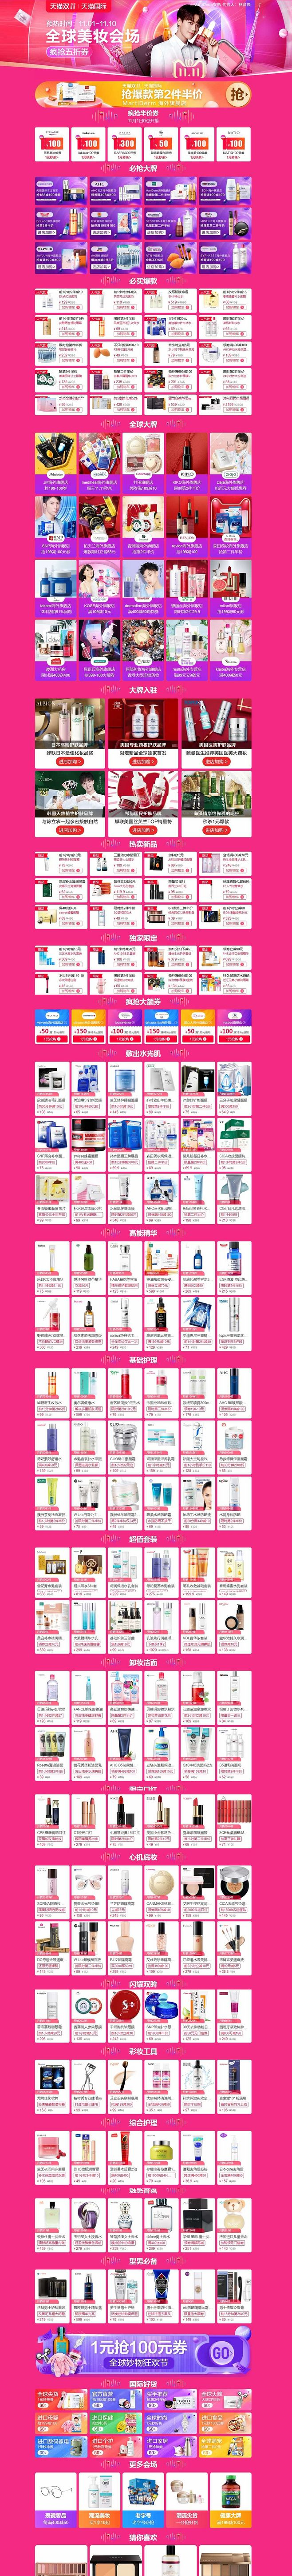floors: (33, 419, 254, 683), (33, 1048, 254, 1226), (33, 1355, 253, 1531), (33, 687, 254, 838), (33, 276, 256, 417), (33, 1229, 256, 1352), (34, 1658, 253, 1782), (34, 1851, 253, 1976), (34, 1534, 253, 1654), (33, 164, 254, 274), (33, 841, 254, 930), (33, 2379, 254, 2459), (33, 2256, 254, 2325), (34, 2118, 254, 2187), (34, 2461, 254, 2530), (34, 2047, 253, 2114), (33, 2188, 254, 2254), (34, 1784, 253, 1850), (34, 1978, 253, 2044), (33, 933, 256, 996), (33, 108, 254, 163), (33, 2328, 254, 2377), (33, 999, 254, 1045), (34, 2532, 254, 2576)
toutu: (0, 0, 292, 108)
